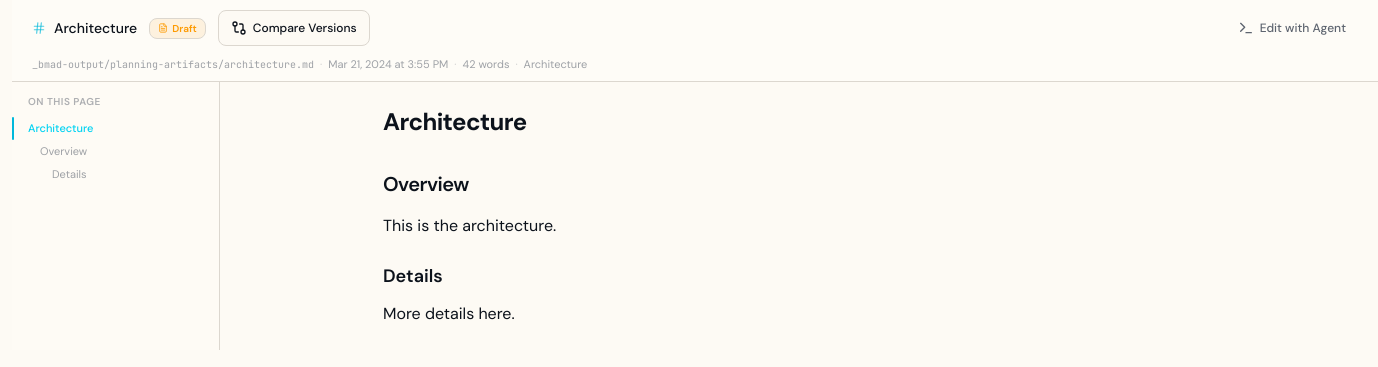
Test: ArtifactViewer › Compare Versions (Story 9.7) › clicking Compare Versions hides section outline
Expected: the navigation bar with test id "section-outline" is shown, [12,82,220,350]
Note: Click Compare Versions
Click the button with test id "compare-versions-btn".
click(294, 28)  # box [218,10,370,46]
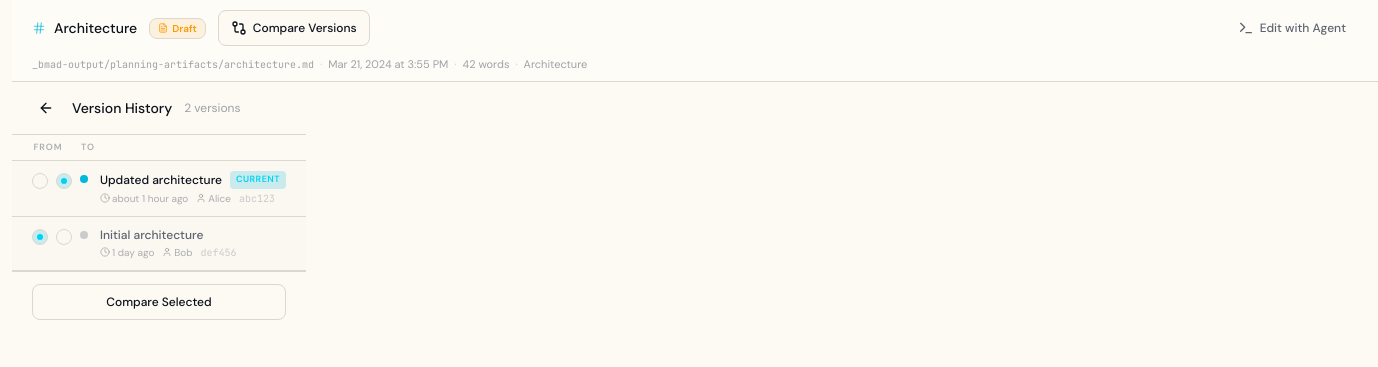
Expected: the navigation bar with test id "section-outline" is gone
